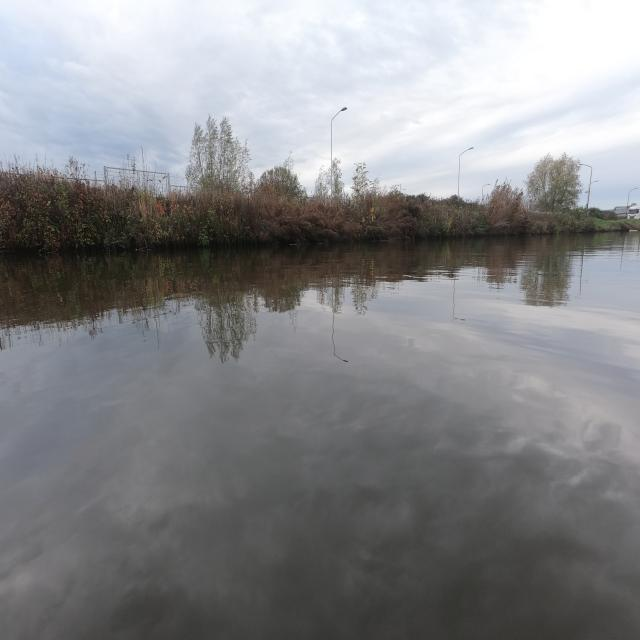grass: (593, 218, 639, 230)
reed: (0, 161, 594, 253)
sky: (1, 0, 639, 192)
water: (1, 234, 638, 639)
